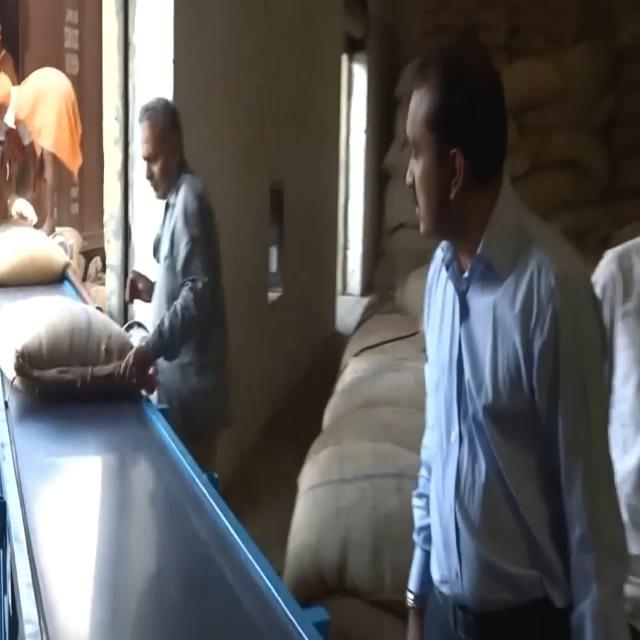gunny_bag: (0, 295, 155, 393), (0, 228, 68, 283)
